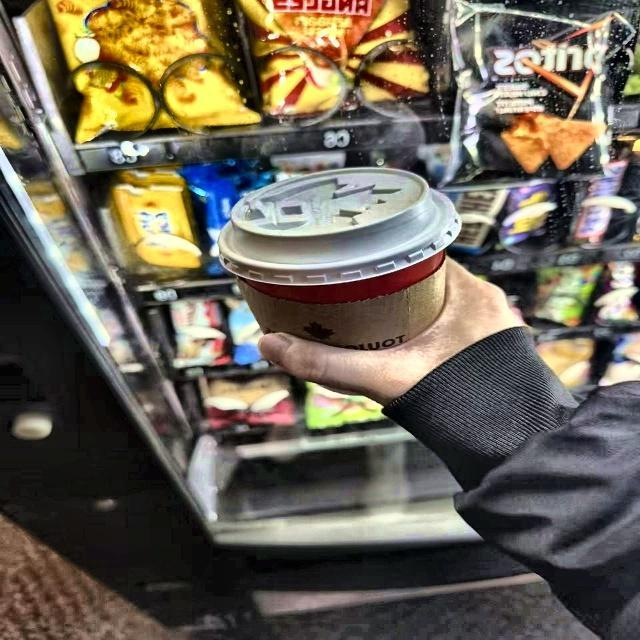timmies: (214, 160, 465, 367)
